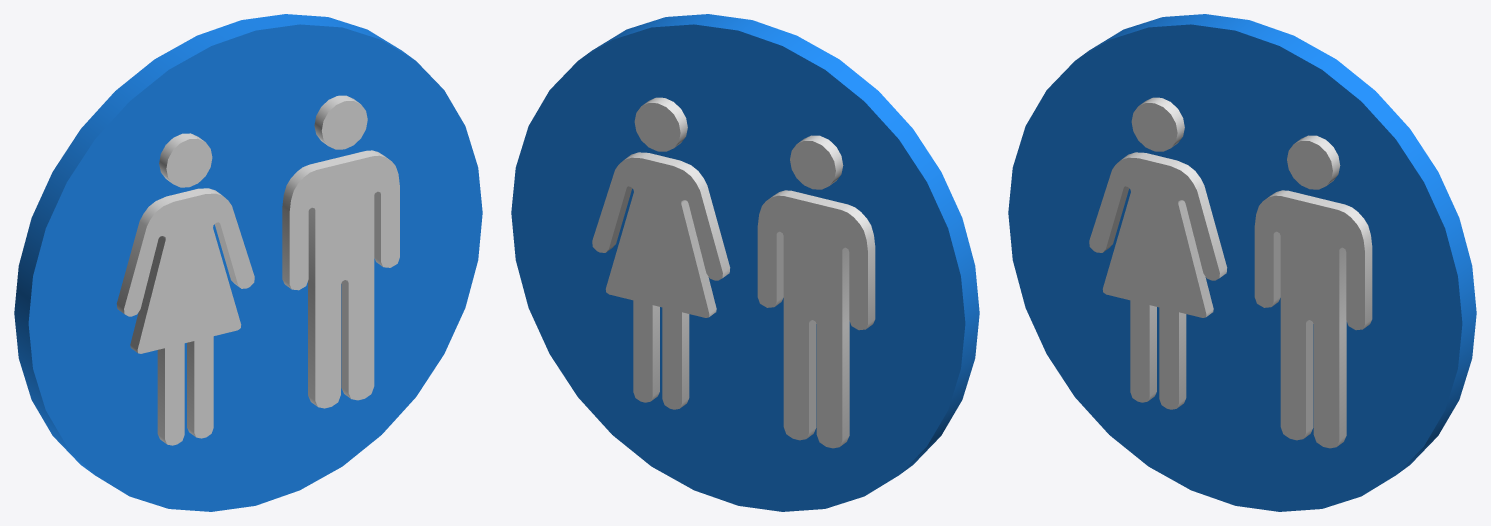
Rendered from GoogleHacathon_WC_v1_112023.fbx.
The picture shows the model from 3 angles, left to right: view 1: azimuth 30°, elevation 25°; view 2: azimuth 150°, elevation 25°; view 3: azimuth 330°, elevation 25°; orthographic projection.
Parts seen in each view (by area): view 1: WC; view 2: WC; view 3: WC.
Boxes of the visible parts, x1=… form: WC: x1=14, y1=14, x2=482, y2=511; WC: x1=511, y1=14, x2=979, y2=511; WC: x1=1008, y1=14, x2=1476, y2=511.
Bounding box in the file's own units: 36 × 36 × 3.96.
